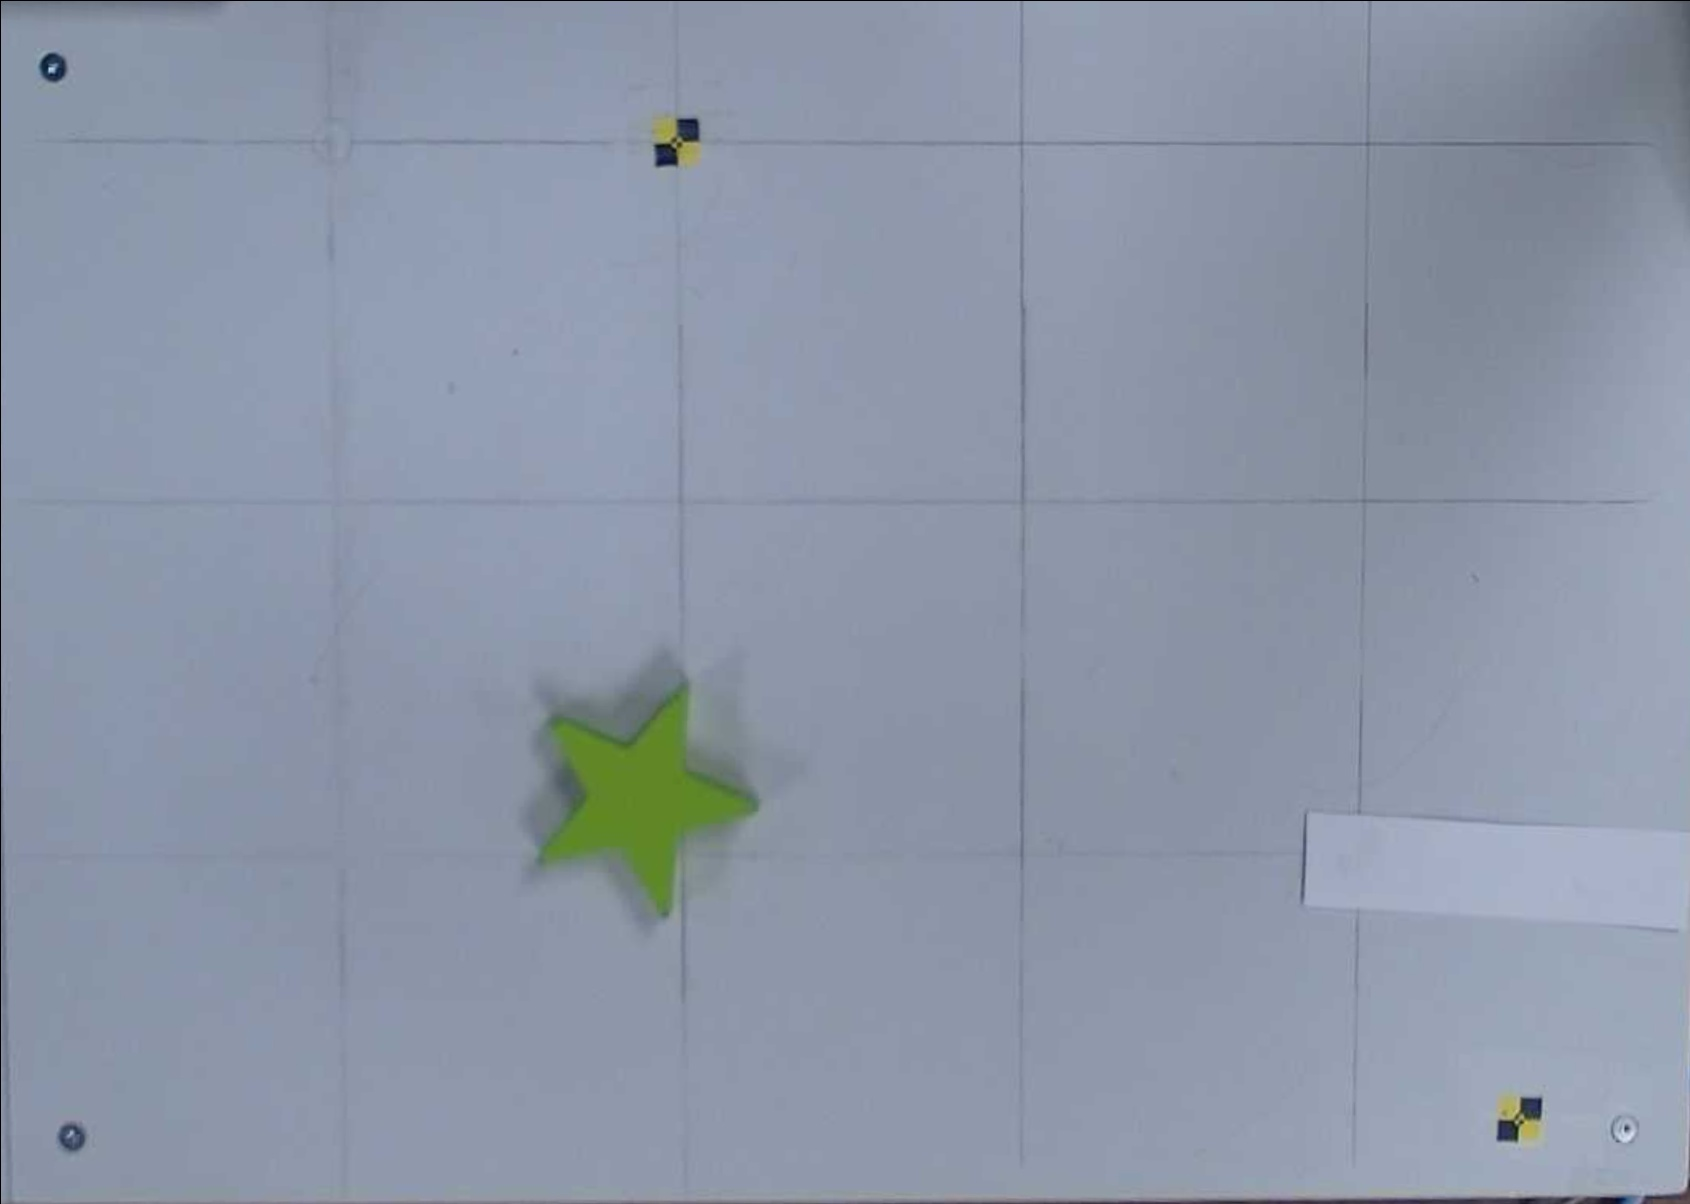Star: (538, 693, 758, 919)
